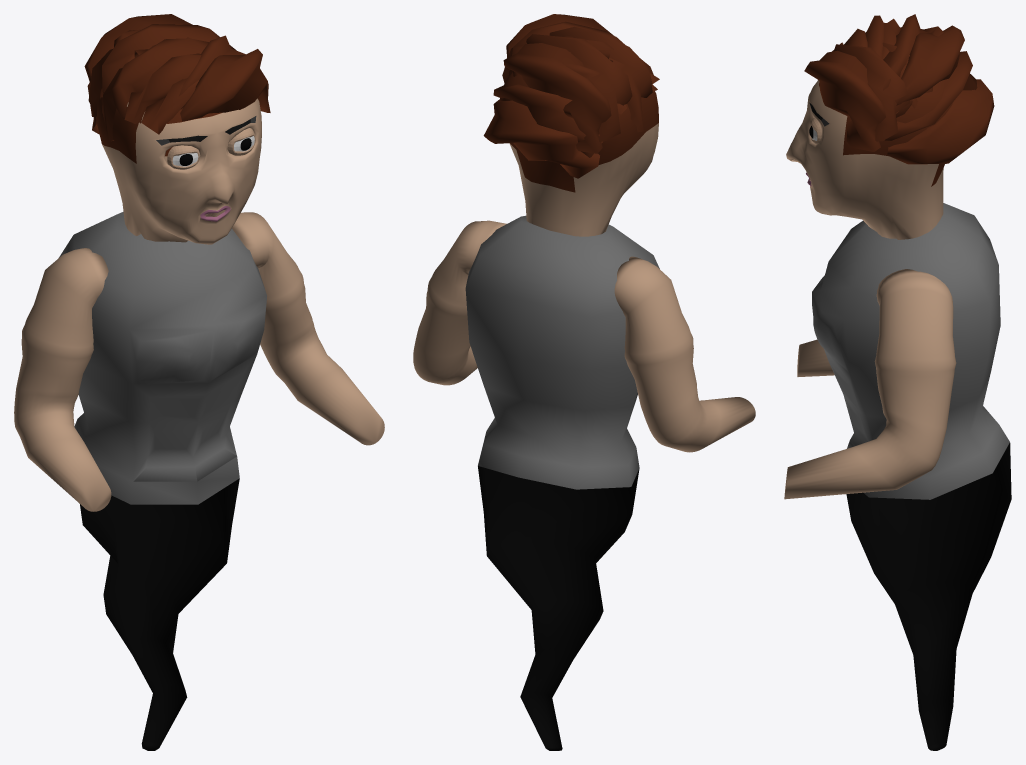
The model's file is ManuelBelgrano2.fbx.
3 renders of one model, left to right at view 1: azimuth 30°, elevation 25°; view 2: azimuth 150°, elevation 25°; view 3: azimuth 270°, elevation 25°, orthographic. The views are drawn at different scales.
Visible parts, largest first — view 1: Círculo, Cubo, Cilindro.001, Cilindro, Curva NURBS.004, Curva NURBS.001, Cubo.002; view 2: Círculo, Cilindro.001, Curva NURBS.004, Cubo, Cilindro, Curva NURBS.002, Curva NURBS.001; view 3: Círculo, Cilindro, Cubo, Curva NURBS.001, Curva NURBS.002, Curva NURBS.004, Cilindro.001.
Boxes of the visible parts, x1=… form: Círculo: x1=59, y1=211, x2=266, y2=750; Cubo: x1=96, y1=97, x2=261, y2=244; Cilindro.001: x1=14, y1=248, x2=111, y2=511; Cilindro: x1=232, y1=212, x2=384, y2=445; Curva NURBS.004: x1=84, y1=14, x2=236, y2=141; Curva NURBS.001: x1=179, y1=35, x2=270, y2=121; Cubo.002: x1=167, y1=145, x2=200, y2=169; Círculo: x1=465, y1=215, x2=659, y2=750; Cilindro.001: x1=614, y1=256, x2=755, y2=452; Curva NURBS.004: x1=503, y1=26, x2=659, y2=153; Cubo: x1=499, y1=72, x2=658, y2=236; Cilindro: x1=413, y1=220, x2=506, y2=385; Curva NURBS.002: x1=483, y1=40, x2=626, y2=178; Curva NURBS.001: x1=502, y1=14, x2=614, y2=82; Círculo: x1=812, y1=203, x2=1011, y2=750; Cilindro: x1=784, y1=269, x2=956, y2=499; Cubo: x1=786, y1=78, x2=953, y2=239; Curva NURBS.001: x1=804, y1=42, x2=932, y2=151; Curva NURBS.002: x1=882, y1=18, x2=994, y2=164; Curva NURBS.004: x1=832, y1=14, x2=964, y2=105; Cilindro.001: x1=797, y1=339, x2=834, y2=376.
Bounding box in the file's own units: 334 × 762 × 217.
